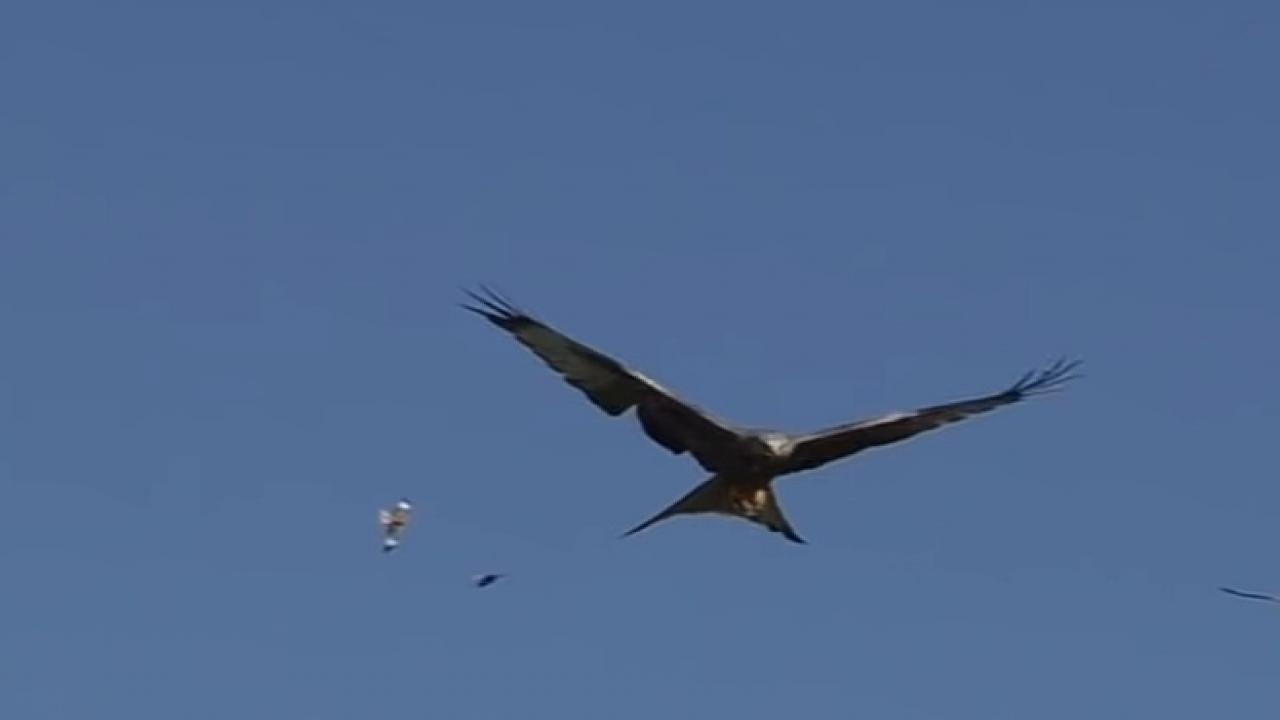Bird: (441, 262, 1103, 555)
